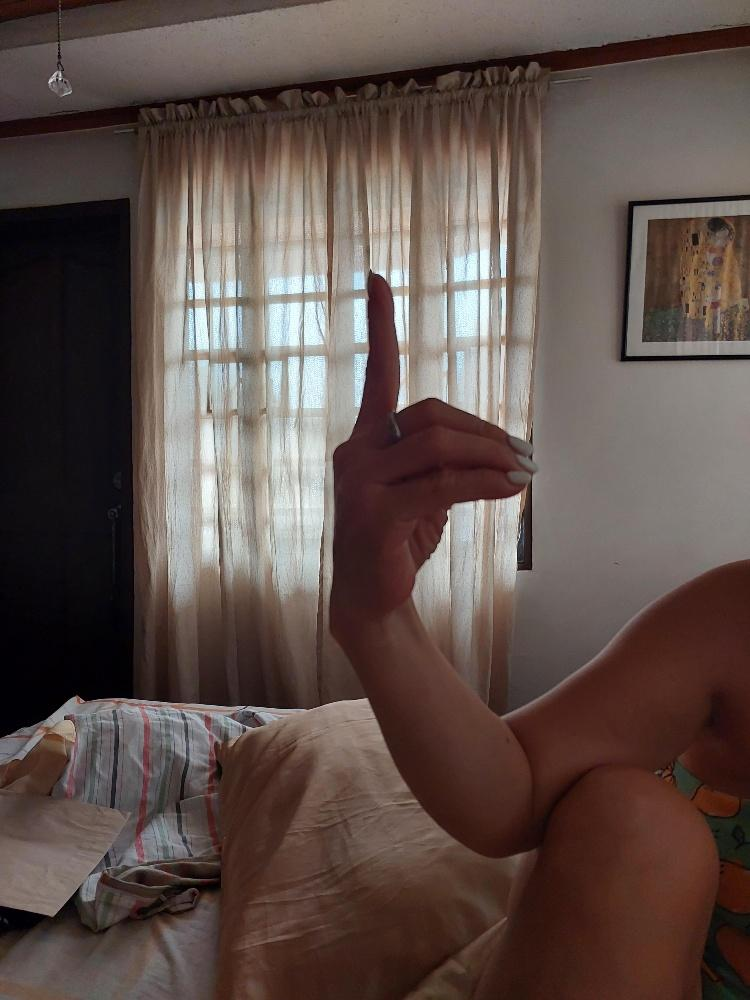d: (330, 266, 543, 625)
